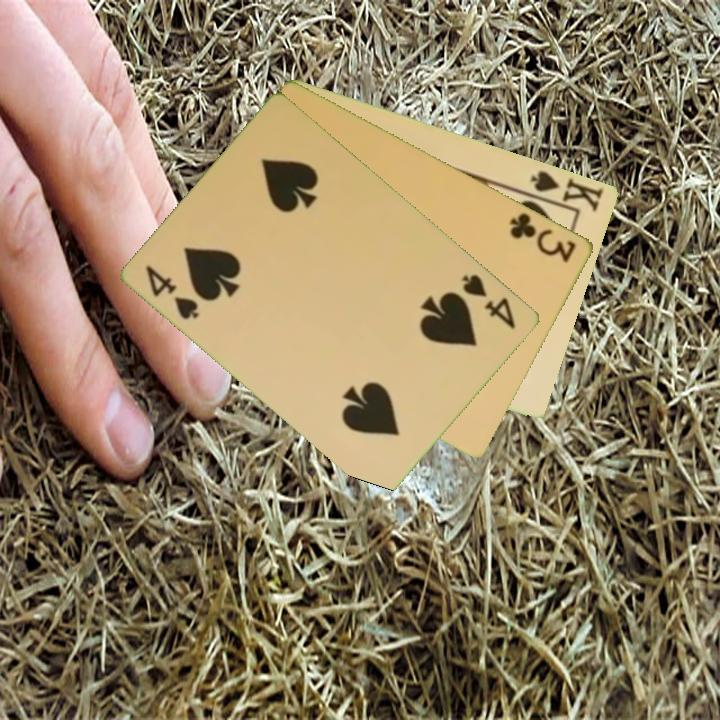3c: (506, 208, 580, 265)
4s: (142, 262, 203, 323), (459, 270, 519, 332)
Ks: (521, 166, 607, 214)
